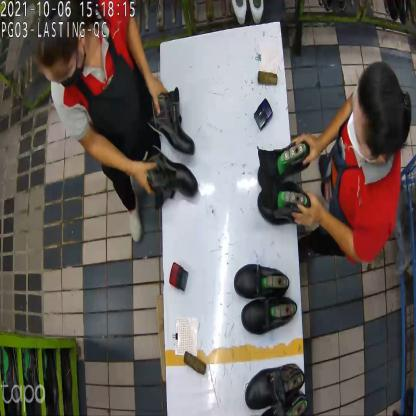shoes: (146, 86, 200, 200), (232, 262, 300, 340), (256, 140, 313, 227), (242, 362, 310, 416)
stamp: (170, 261, 191, 294), (254, 97, 274, 131)
